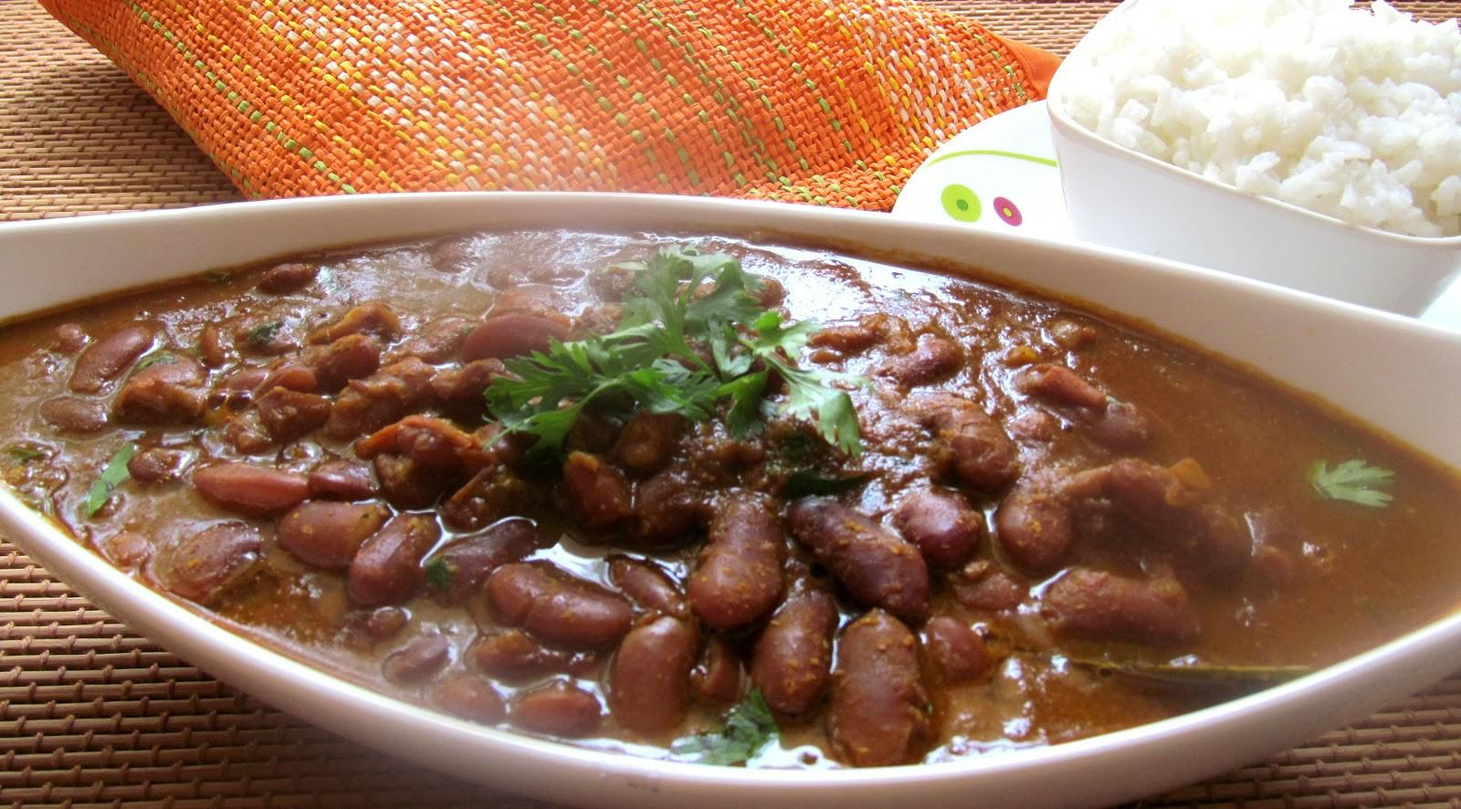RajmaCurry: (0, 226, 1461, 780)
WhiteRice: (1064, 0, 1461, 232)
